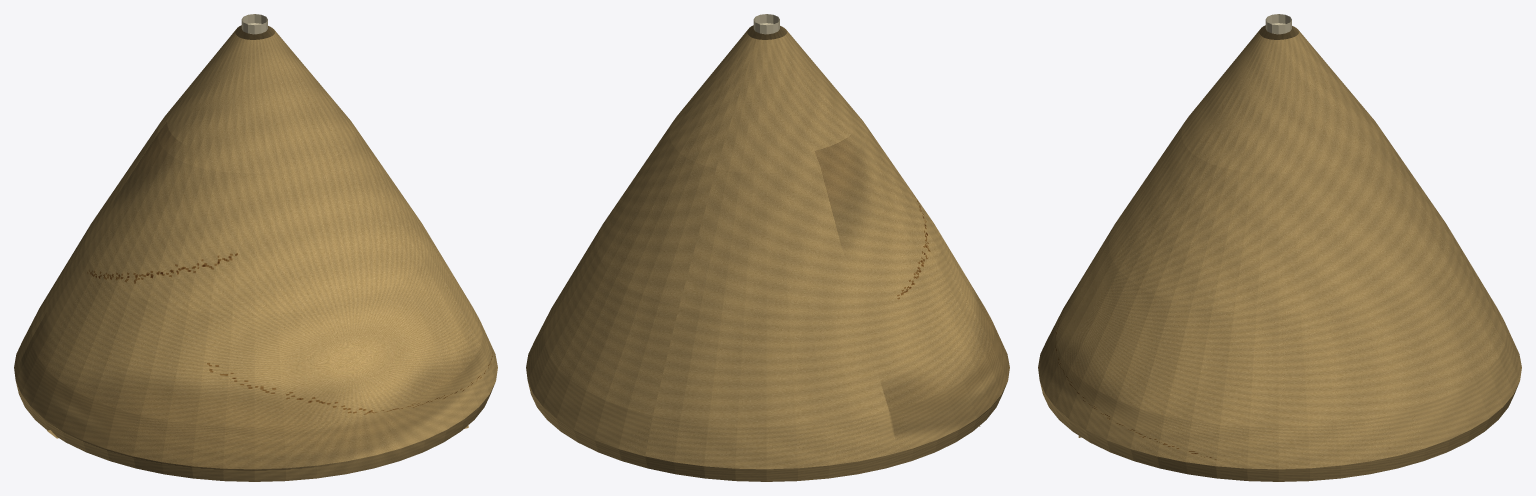
The model's file is non-la-rach.glb.
3 views of the same model, side by side, from view 1: azimuth 30°, elevation 25°; view 2: azimuth 150°, elevation 25°; view 3: azimuth 270°, elevation 25° (orthographic).
Visible parts, largest first — view 1: NonLa; view 2: NonLa; view 3: NonLa.
Part boxes in pixels (x1,y1,x2,y2): NonLa: (14, 25, 497, 481); NonLa: (526, 25, 1009, 481); NonLa: (1038, 25, 1521, 481).
Bounding box in the file's own units: 0.438 × 0.3657 × 0.4375.
Materials: 2 (1 with a texture image).
